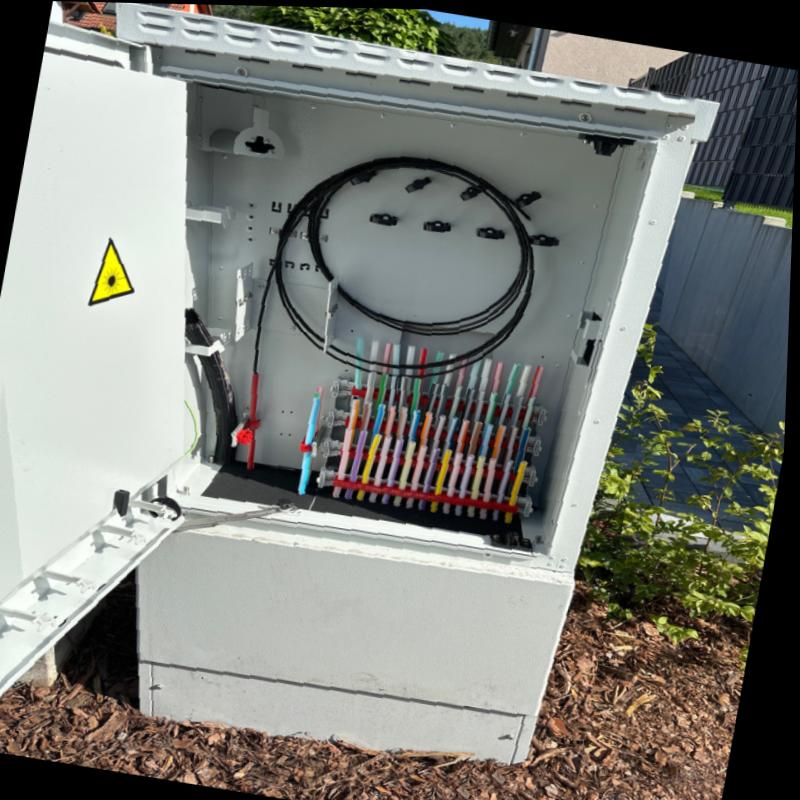NT-Gehause: (0, 6, 697, 761)
